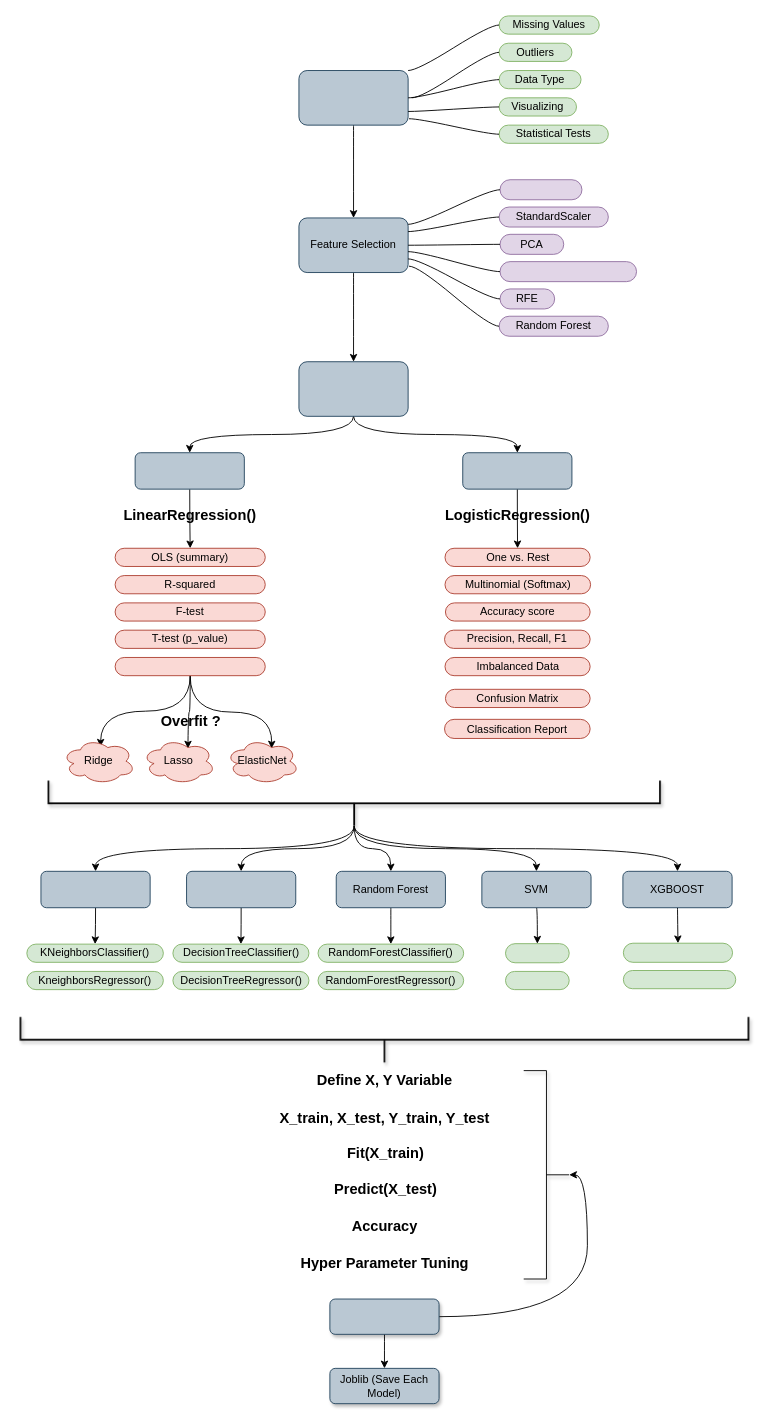
This 771x1426 diagram has some shape labels left out. Here are the shapes that lost their labels. From the top down, the centre of each, then its label:
At (x=353, y=97): "Exploratory Data Analysis".
At (x=540, y=189): "Normalize".
At (x=568, y=271): "Polynomial Features".
At (x=353, y=388): "Machine Learning Algorithms".
At (x=189, y=470): "Regression Problems".
At (x=517, y=470): "Classification Problems".
At (x=189, y=666): "MAE, MSE, RMSE, MAPE".
At (x=95, y=889): "KNN".
At (x=241, y=889): "Decision Tree".
At (x=537, y=953): "SVC()".
At (x=677, y=952): "XGBClassifier()".
At (x=537, y=980): "SVR()".
At (x=679, y=979): "XGBRegressor()".
At (x=385, y=1317): "GridSearchCV()".
